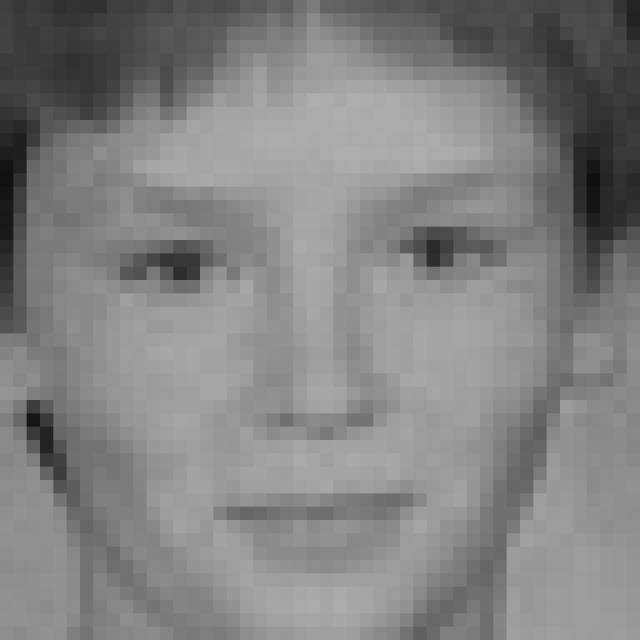neutral: (77, 173, 554, 582)
